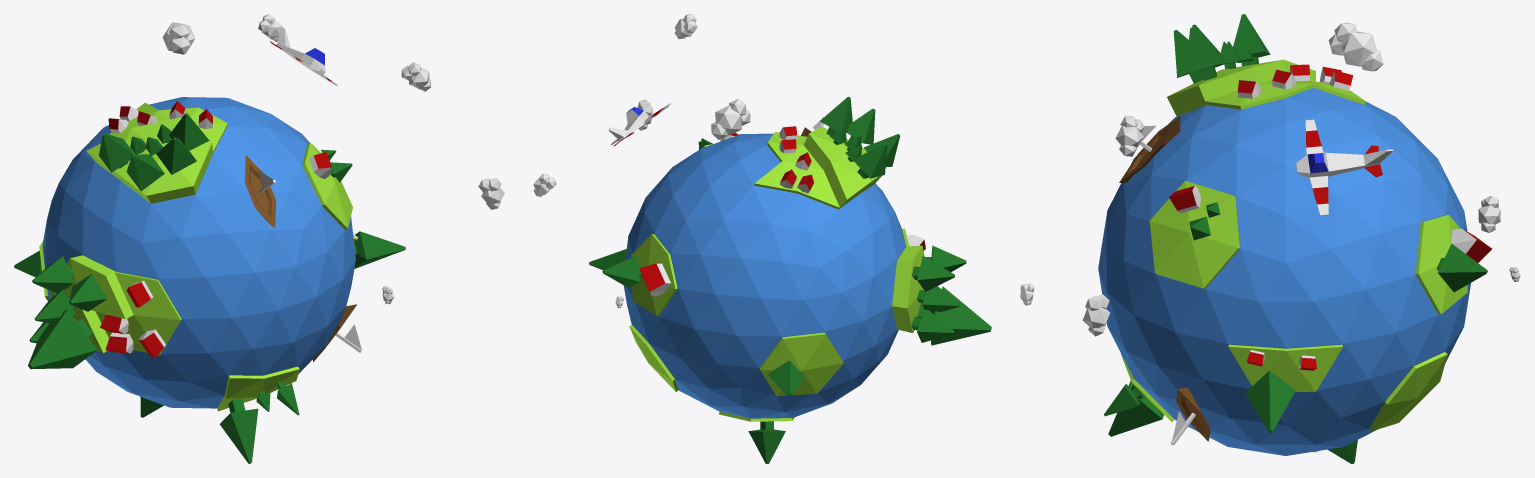
The model's file is Earth.fbx.
3 renders of one model, left to right at view 1: azimuth 30°, elevation 25°; view 2: azimuth 150°, elevation 25°; view 3: azimuth 270°, elevation 25°, orthographic. The views are drawn at different scales.
Parts seen in each view (by area): view 1: Watar, Trees, T, Houses, Cloud, Boat, Plane; view 2: Watar, T, Trees, Cloud, Houses, Plane; view 3: Watar, T, Trees, Cloud, Houses, Plane, Boat.
Boxes of the visible parts, bbox=[...] form: Watar: bbox=[42, 97, 355, 408]; Trees: bbox=[14, 113, 405, 463]; T: bbox=[39, 102, 355, 411]; Houses: bbox=[100, 101, 358, 357]; Cloud: bbox=[162, 14, 504, 304]; Boat: bbox=[244, 155, 361, 361]; Plane: bbox=[270, 27, 337, 86]; Watar: bbox=[623, 133, 906, 418]; T: bbox=[629, 126, 924, 421]; Trees: bbox=[589, 96, 991, 463]; Cloud: bbox=[533, 14, 750, 308]; Houses: bbox=[639, 126, 925, 296]; Plane: bbox=[608, 103, 671, 146]; Watar: bbox=[1098, 88, 1470, 455]; T: bbox=[1121, 59, 1467, 452]; Trees: bbox=[1104, 14, 1487, 463]; Cloud: bbox=[1020, 22, 1520, 336]; Houses: bbox=[1169, 64, 1491, 370]; Plane: bbox=[1296, 119, 1393, 215]; Boat: bbox=[1119, 116, 1210, 445].
Bounding box in the file's own units: 330 × 283 × 278.
